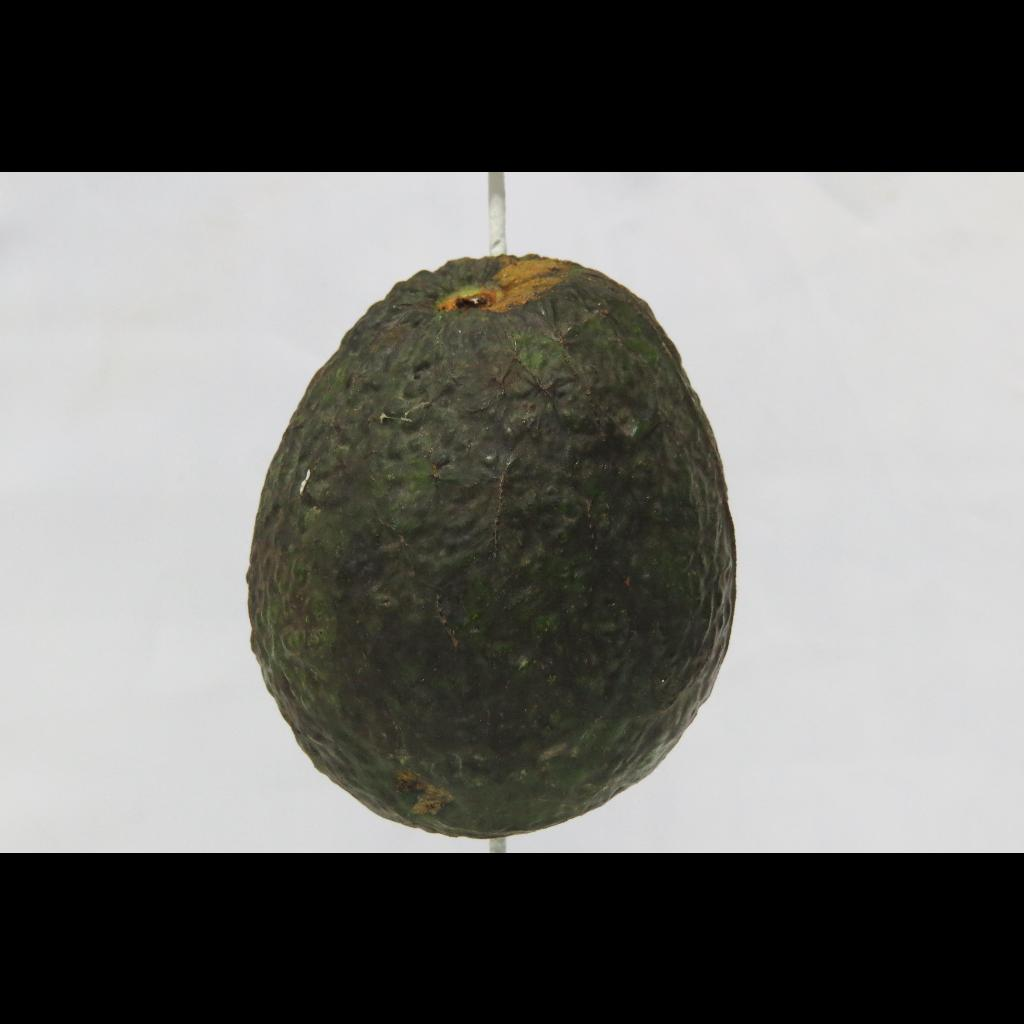fruto_sano: (77, 201, 848, 848)
